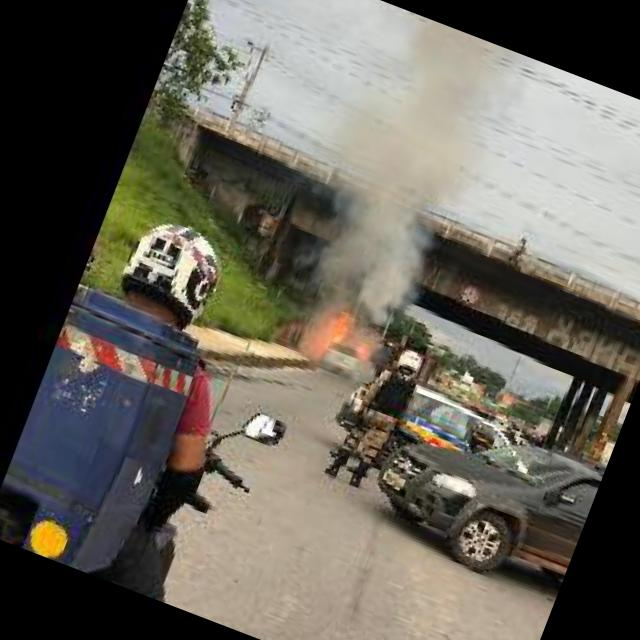fire: (299, 305, 382, 378)
smoke: (272, 1, 536, 344)
